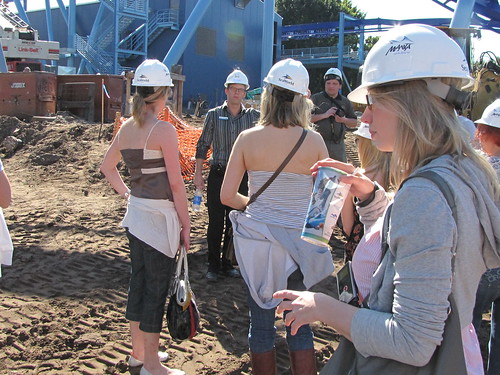person hardhat: (294, 17, 492, 375), (94, 59, 193, 375), (227, 59, 320, 374), (199, 66, 254, 290), (311, 65, 358, 184), (471, 91, 500, 225)
